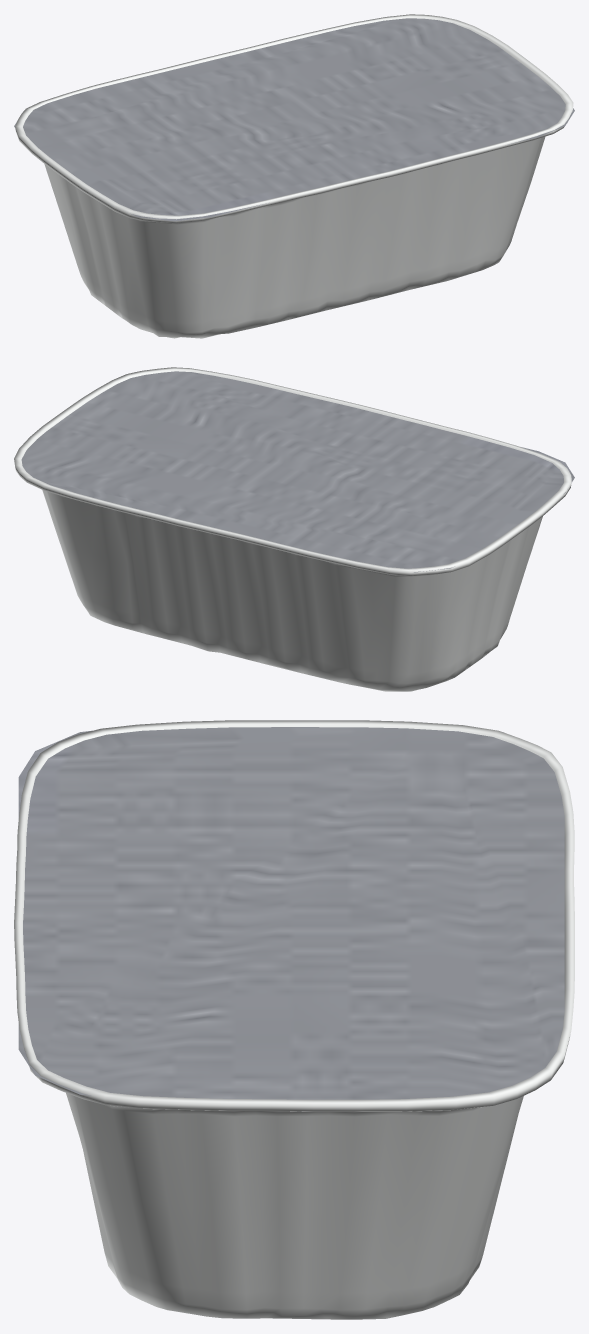
The model's file is aluminum.fbx.
3 views of the same model, one above another, from view 1: azimuth 30°, elevation 25°; view 2: azimuth 150°, elevation 25°; view 3: azimuth 270°, elevation 25° (orthographic). The views are drawn at different scales.
Parts seen in each view (by area): view 1: aluminum; view 2: aluminum; view 3: aluminum.
Boxes of the visible parts, left/top/right/bottom form: aluminum: left=14, top=14, right=574, bottom=338; aluminum: left=14, top=367, right=574, bottom=691; aluminum: left=14, top=720, right=574, bottom=1319.
Size of the model in its own units: 25.41 by 8.22 by 15.63.
2 materials, 2 textured.
